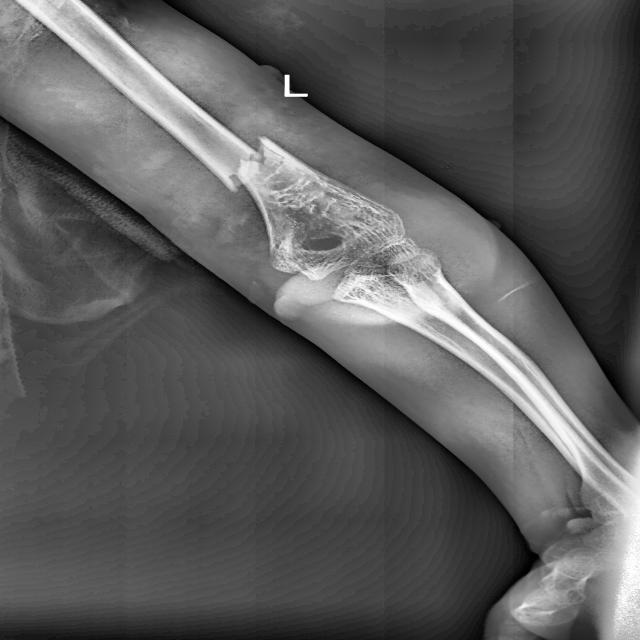Fracture: (216, 131, 282, 196)
